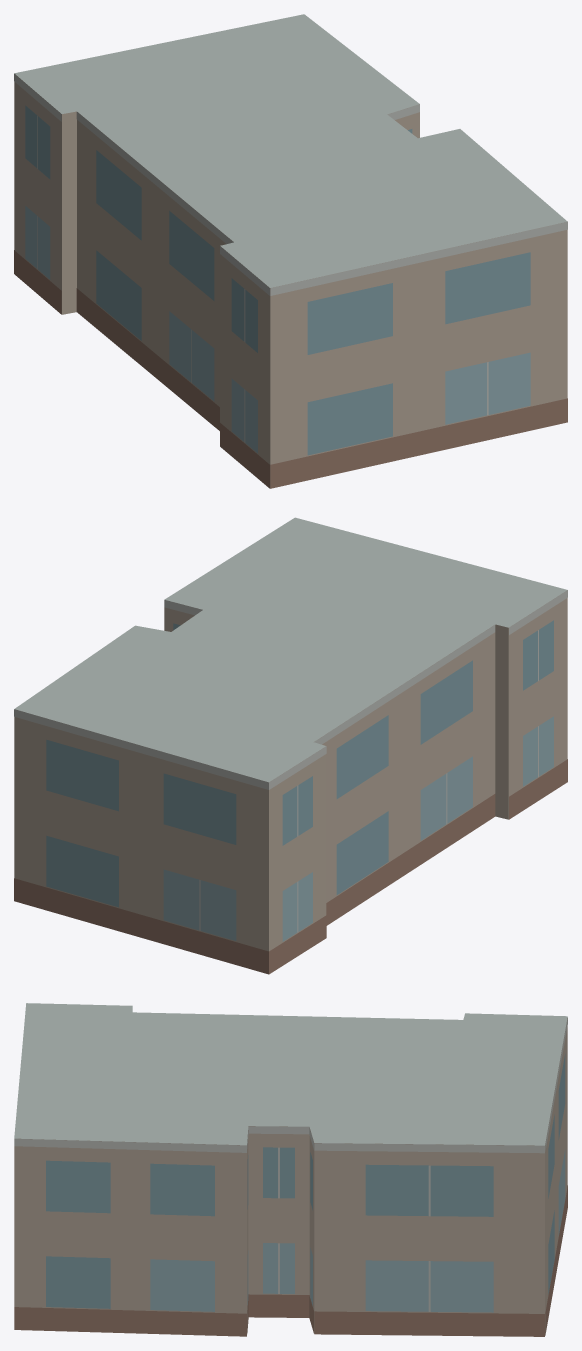
File: survey-upis-32872188.glb
3 renders of one model, top to bottom at view 1: azimuth 30°, elevation 25°; view 2: azimuth 150°, elevation 25°; view 3: azimuth 270°, elevation 25°, orthographic. The views are drawn at different scales.
Parts seen in each view (by area): view 1: survey-upis-32872188.tmp; view 2: survey-upis-32872188.tmp; view 3: survey-upis-32872188.tmp.
Boxes of the visible parts, bbox=[...] form: survey-upis-32872188.tmp: bbox=[14, 14, 567, 488]; survey-upis-32872188.tmp: bbox=[14, 517, 567, 974]; survey-upis-32872188.tmp: bbox=[14, 1003, 567, 1336].
Bounding box in the file's own units: 9.76 × 6.1 × 16.01.
